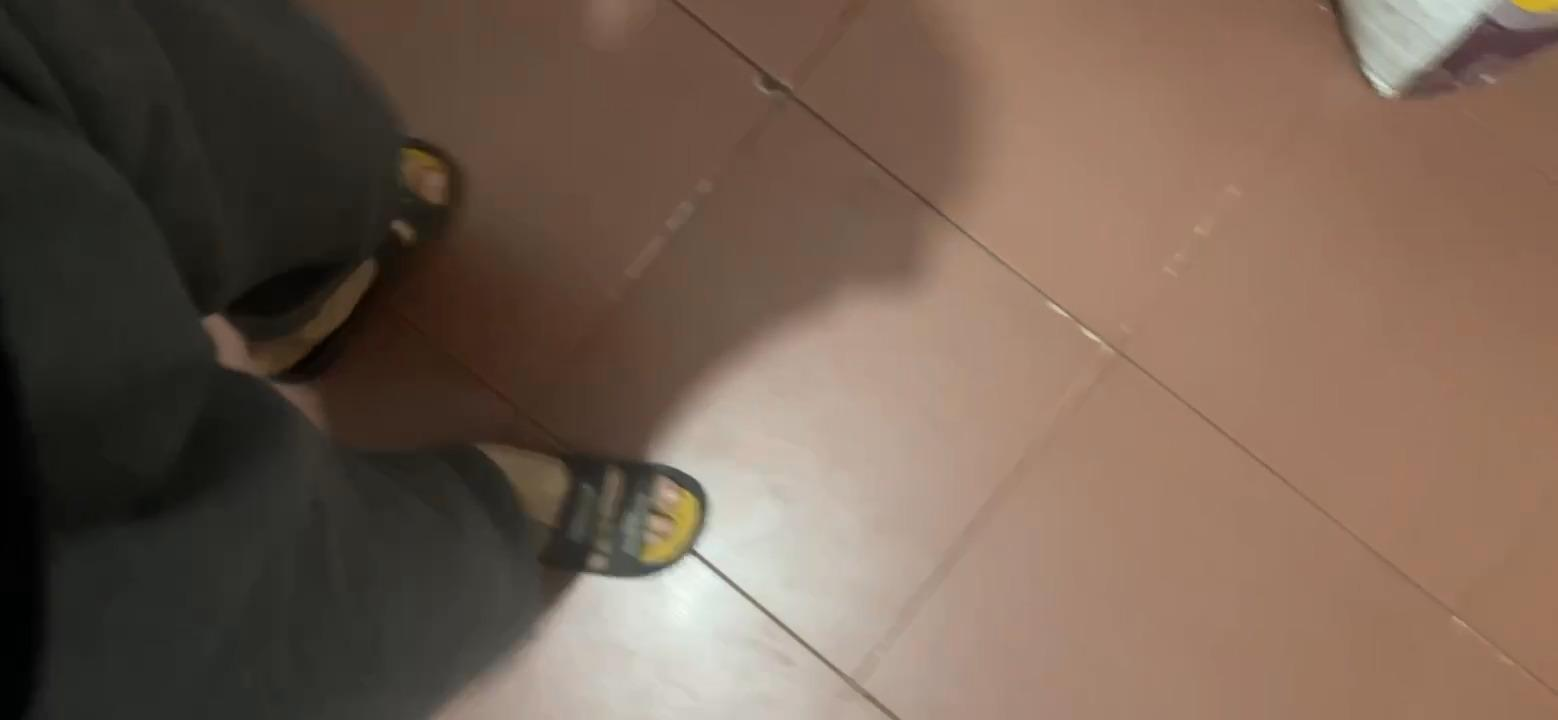no-boot: (443, 423, 707, 580)
